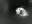person: (20, 8, 30, 18), (17, 8, 22, 16)
